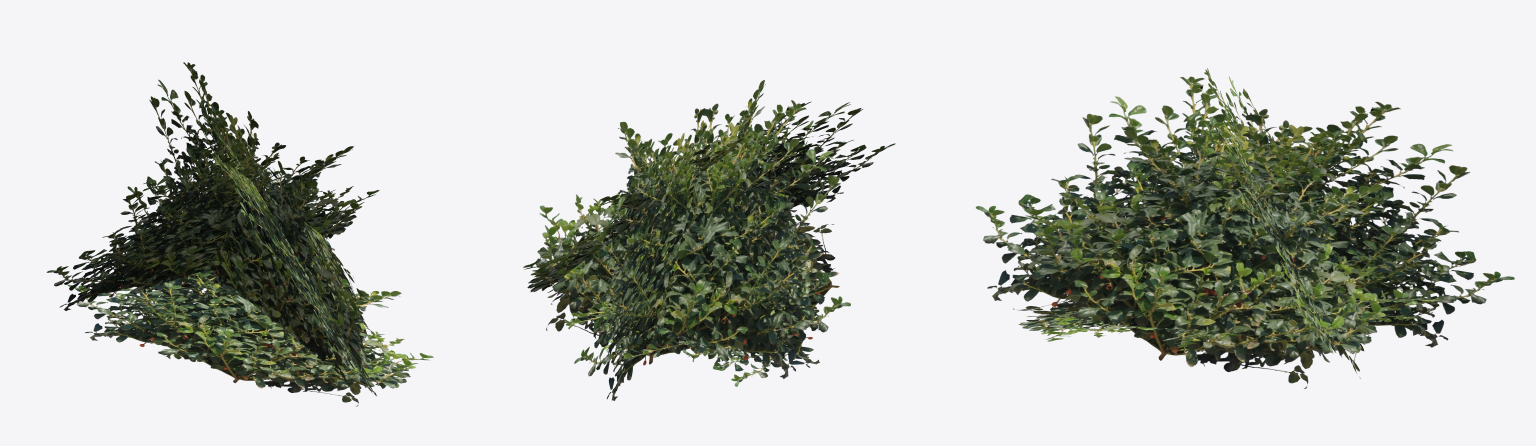
File: trees_and_bush_pack_bush_small2.glb
3 renders of one model, left to right at view 1: azimuth 30°, elevation 25°; view 2: azimuth 150°, elevation 25°; view 3: azimuth 270°, elevation 25°, orthographic. The views are drawn at different scales.
Visible parts, largest first — view 1: BushSmall2; view 2: BushSmall2; view 3: BushSmall2.
Boxes of the visible parts, left/top/right/bottom form: BushSmall2: left=46, top=62, right=433, bottom=406; BushSmall2: left=523, top=80, right=895, bottom=400; BushSmall2: left=975, top=68, right=1514, bottom=388.
Size of the model in its own units: 1.03 by 0.7313 by 1.48.
1 material, 1 textured.
